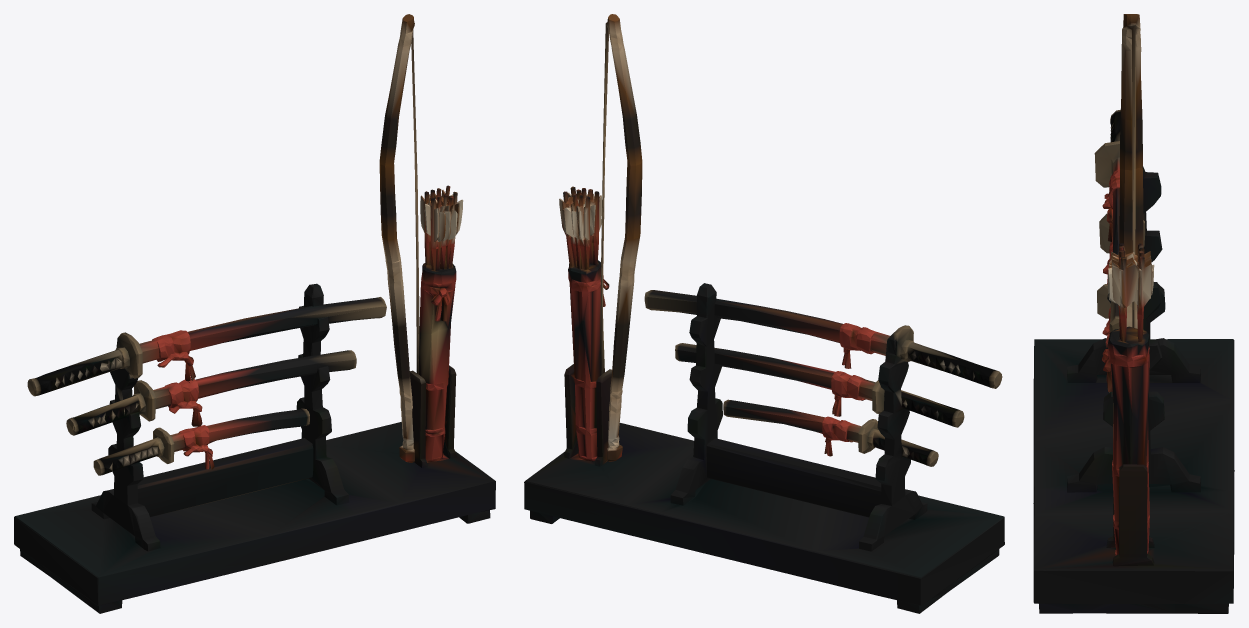
File: rack.glb
3 renders of one model, left to right at view 1: azimuth 30°, elevation 25°; view 2: azimuth 150°, elevation 25°; view 3: azimuth 270°, elevation 25°, orthographic. The views are drawn at different scales.
Visible parts, largest first — view 1: geometry_0; view 2: geometry_0; view 3: geometry_0.
Part boxes in pixels (<box>): geometry_0: <box>14,14,495,613</box>; geometry_0: <box>524,14,1004,613</box>; geometry_0: <box>1033,14,1234,613</box>.
Size of the model in its own units: 1.49 by 1.6 by 0.5049.
